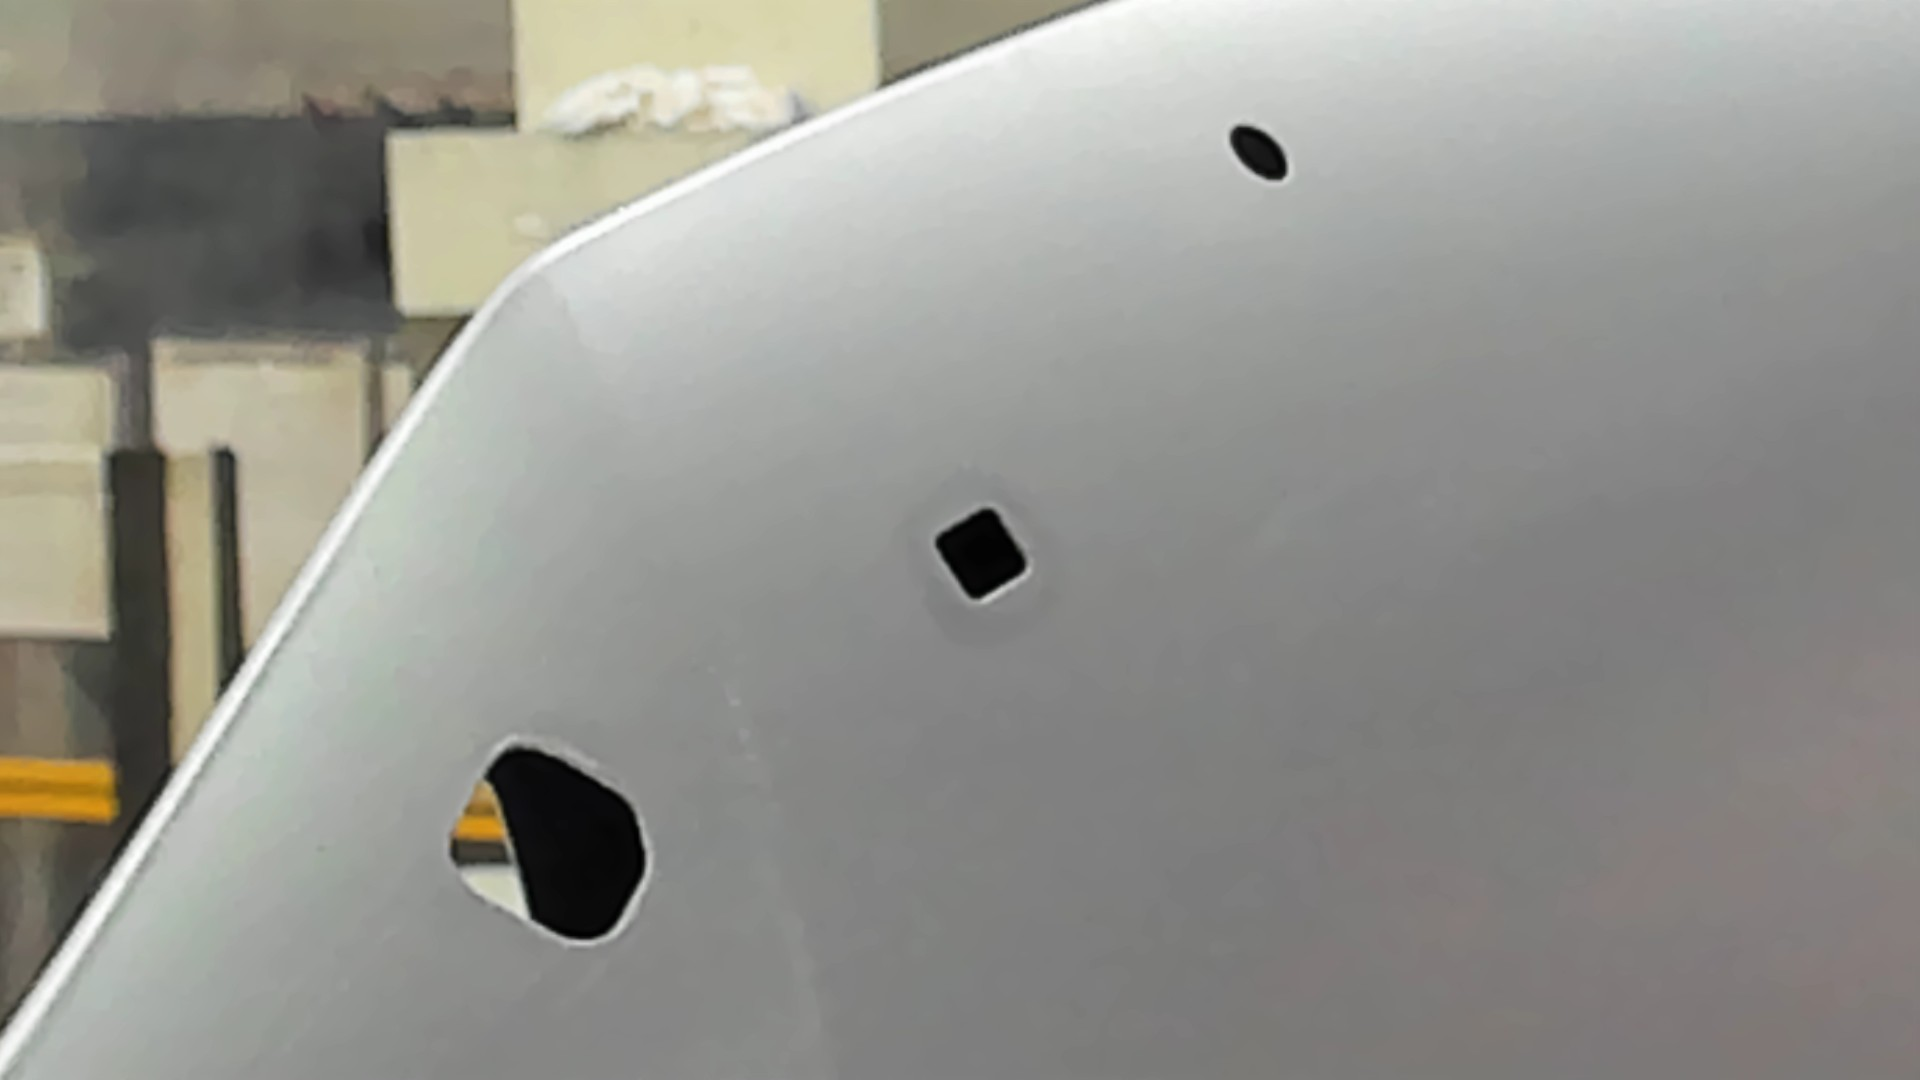capo: (1038, 187, 1920, 1080)
chico: (1220, 119, 1295, 186)
grande: (436, 733, 661, 953)
mediano: (928, 500, 1038, 607)
